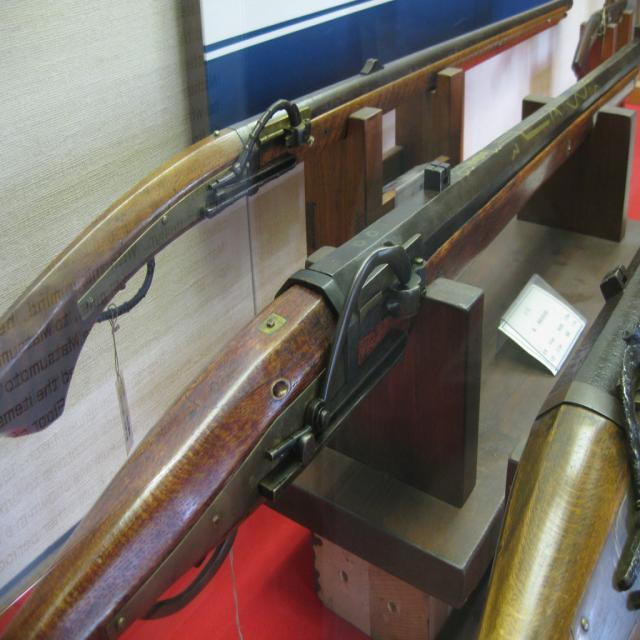weapon: (0, 0, 575, 438), (472, 250, 640, 640)
